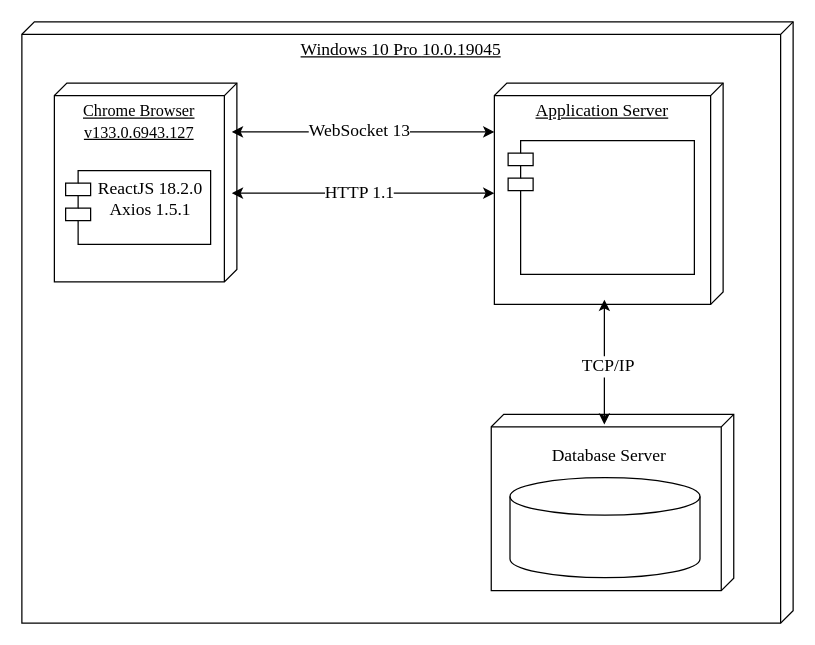
Some shapes in this 815 by 645 pixel diagram are drawn without their labels. The centre of each missing label's shape, as x and y in pixels:
"NodeJS 22.13.1 ExpressJS 4.21.2 socket.io 4.8.1 sequelize ORM 6.37.5 pg 8.13.3" belongs at (x=600, y=206).
"PostgreSQL 17.2" belongs at (x=604, y=527).
